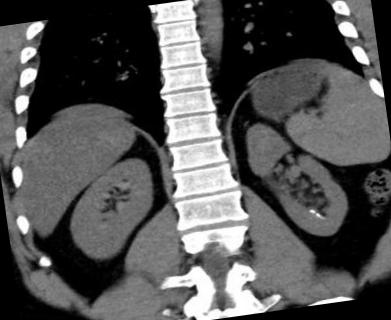Tas_Var: (308, 208, 316, 214), (314, 212, 321, 217)
